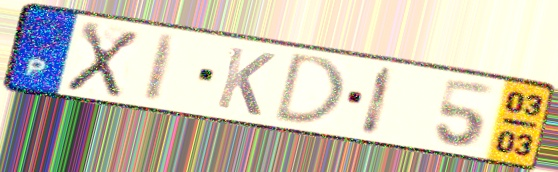5: (431, 75, 493, 151)
D: (269, 50, 348, 127)
I: (357, 63, 399, 140), (140, 31, 183, 106)
K: (212, 43, 279, 119)
X: (62, 18, 144, 101)
